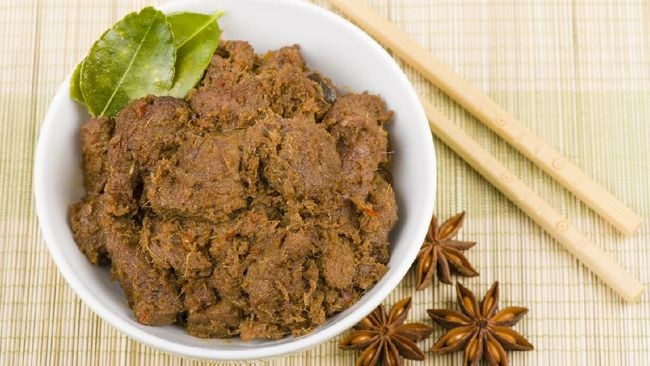rendang: (68, 84, 373, 332)
